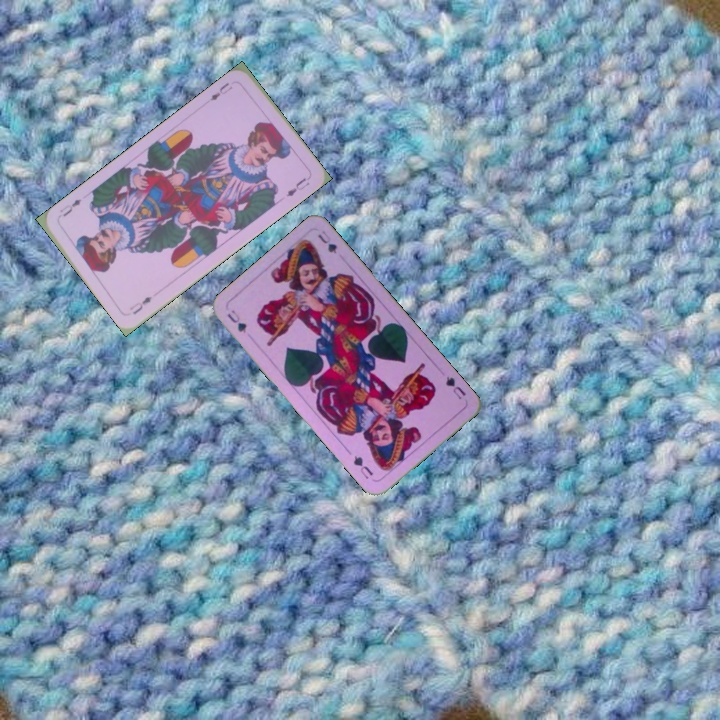EU: (206, 78, 235, 104), (125, 292, 154, 317)
GU: (441, 372, 469, 402), (223, 306, 249, 336)
